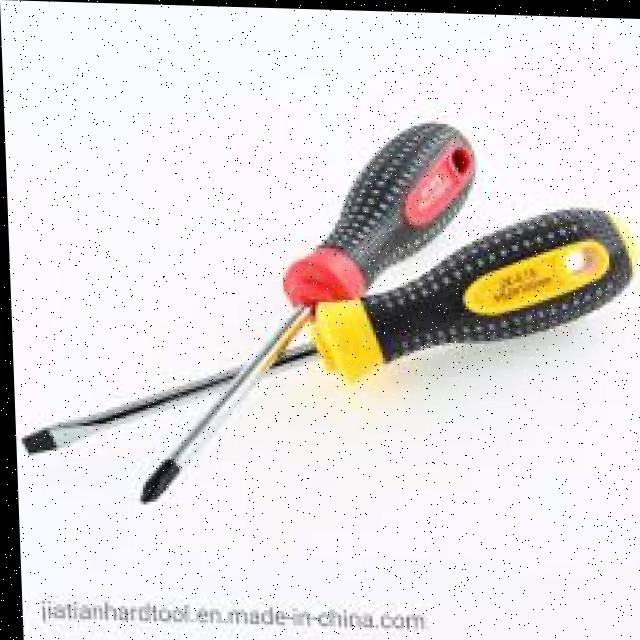Screwdriver: (19, 201, 633, 456), (137, 123, 473, 501)
